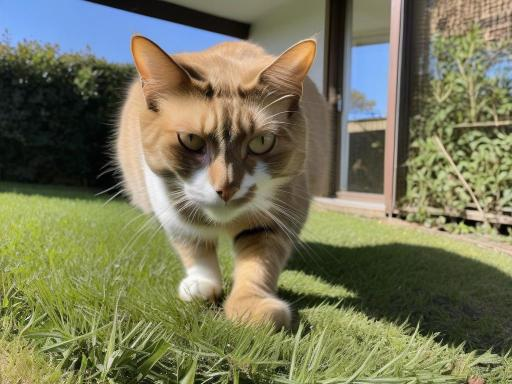cat_standing: (114, 35, 330, 330)
